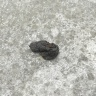Dog: (29, 40, 60, 61)
